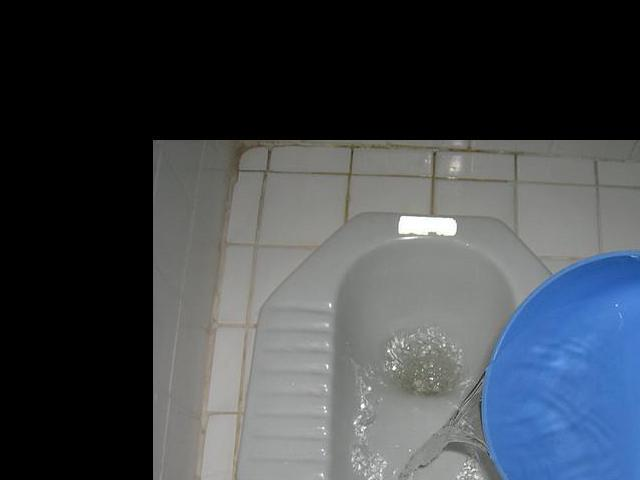Sanitario: (237, 224, 567, 480)
